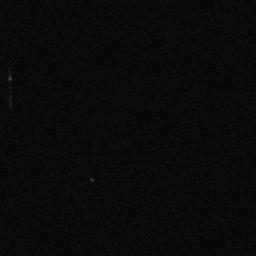ship: (88, 178, 98, 185)
